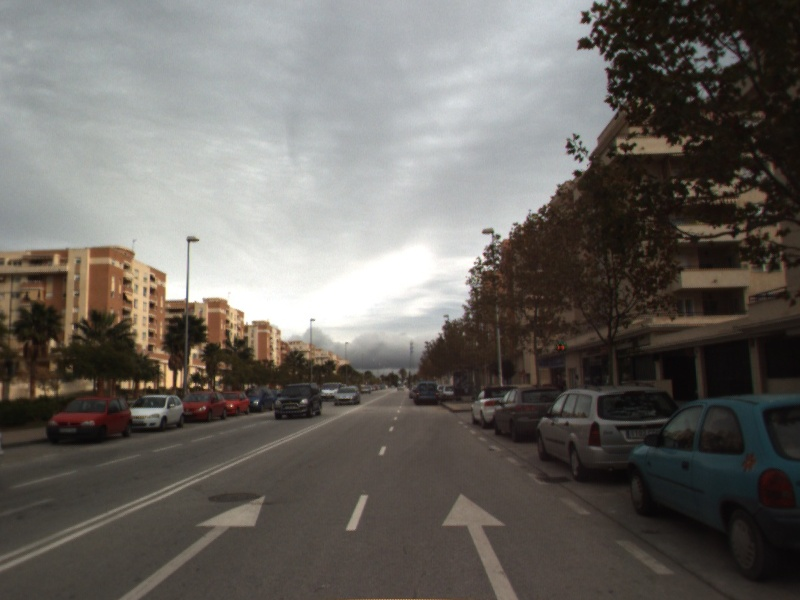STRAIGHT: (116, 494, 267, 600), (439, 491, 522, 600)
